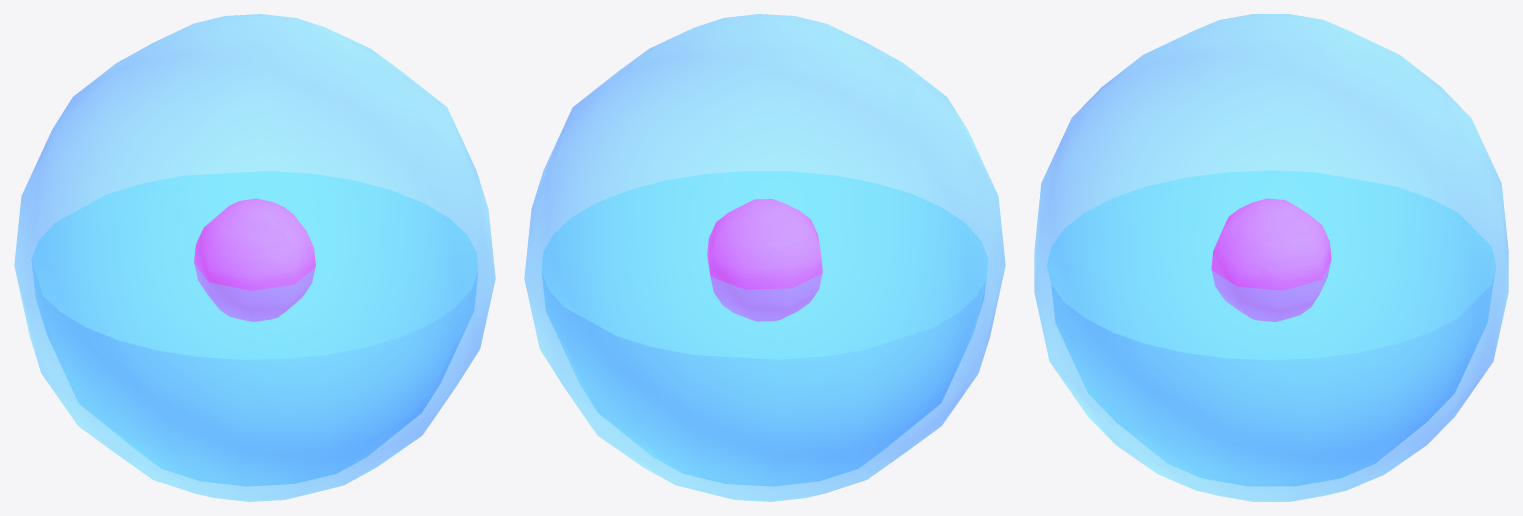
The model's file is orb.glb.
3 renders of one model, left to right at view 1: azimuth 30°, elevation 25°; view 2: azimuth 150°, elevation 25°; view 3: azimuth 270°, elevation 25°, orthographic.
Parts seen in each view (by area): view 1: orb; view 2: orb; view 3: orb.
Part boxes in pixels (left/top/right/bottom): orb: left=14, top=14, right=495, bottom=501; orb: left=524, top=14, right=1005, bottom=501; orb: left=1034, top=14, right=1508, bottom=501.
Bounding box in the file's own units: 0.3069 × 0.317 × 0.3069.
2 materials, 2 textured.
